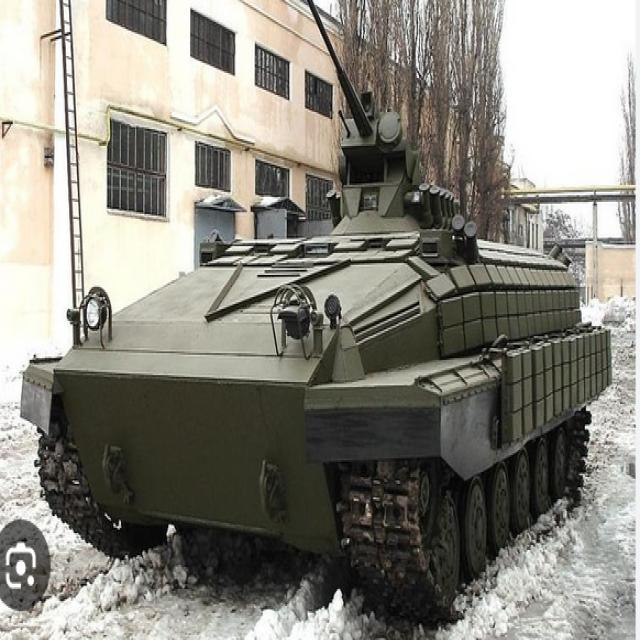MIL_APC: (30, 165, 621, 613)
